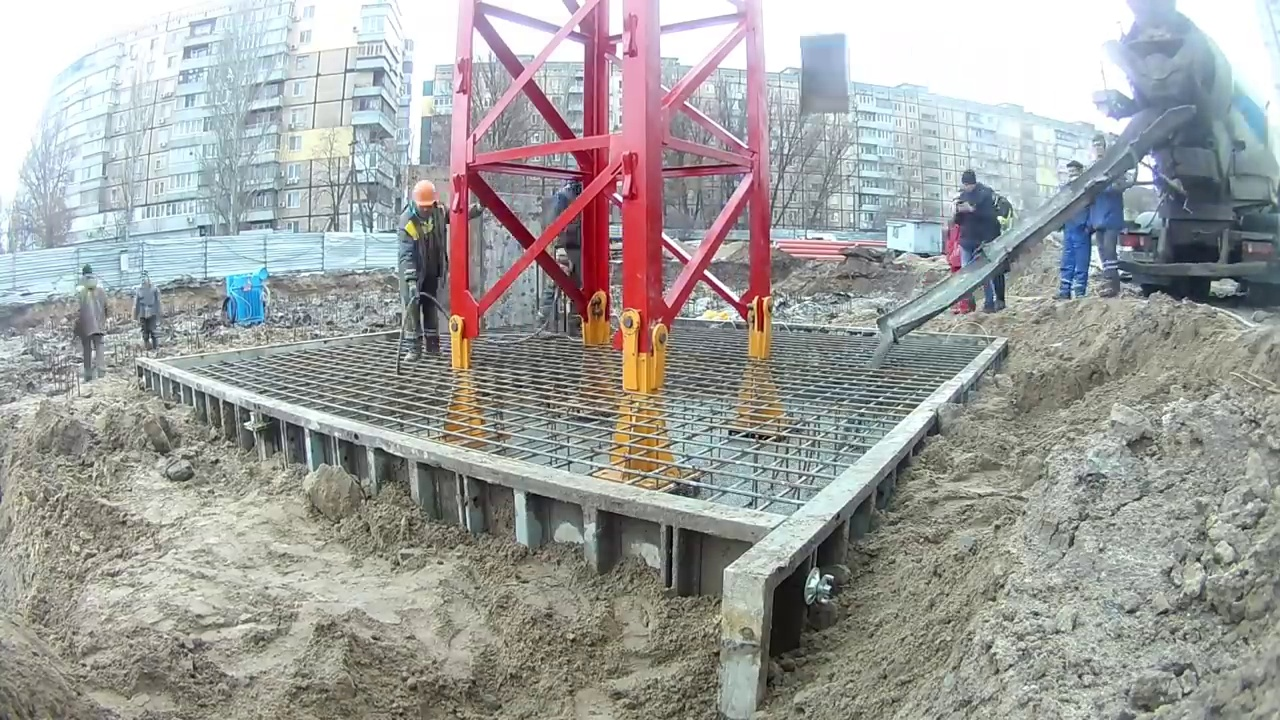helmet: (410, 180, 441, 207)
helmet-off: (1065, 161, 1083, 184), (960, 171, 977, 193), (82, 263, 95, 288), (1092, 136, 1106, 157), (139, 271, 151, 289)
helmet-on: (410, 180, 442, 218)
person: (395, 179, 446, 367), (949, 171, 1007, 314), (541, 169, 586, 342), (1088, 136, 1125, 298), (1053, 160, 1094, 302), (68, 262, 113, 380), (131, 272, 165, 357)
